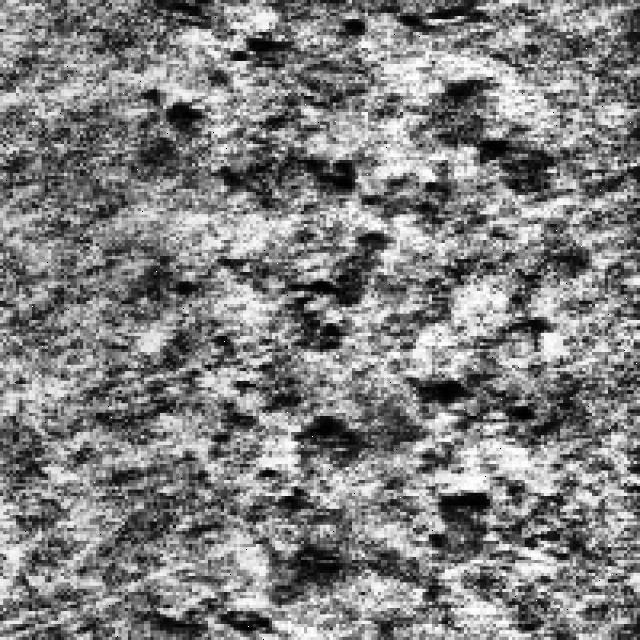Crazing: (170, 140, 400, 628), (330, 304, 534, 563)
